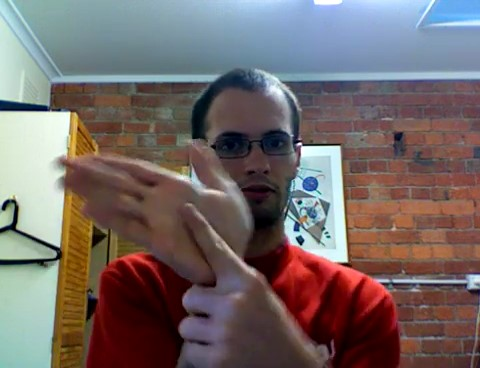L: (47, 136, 301, 368)
